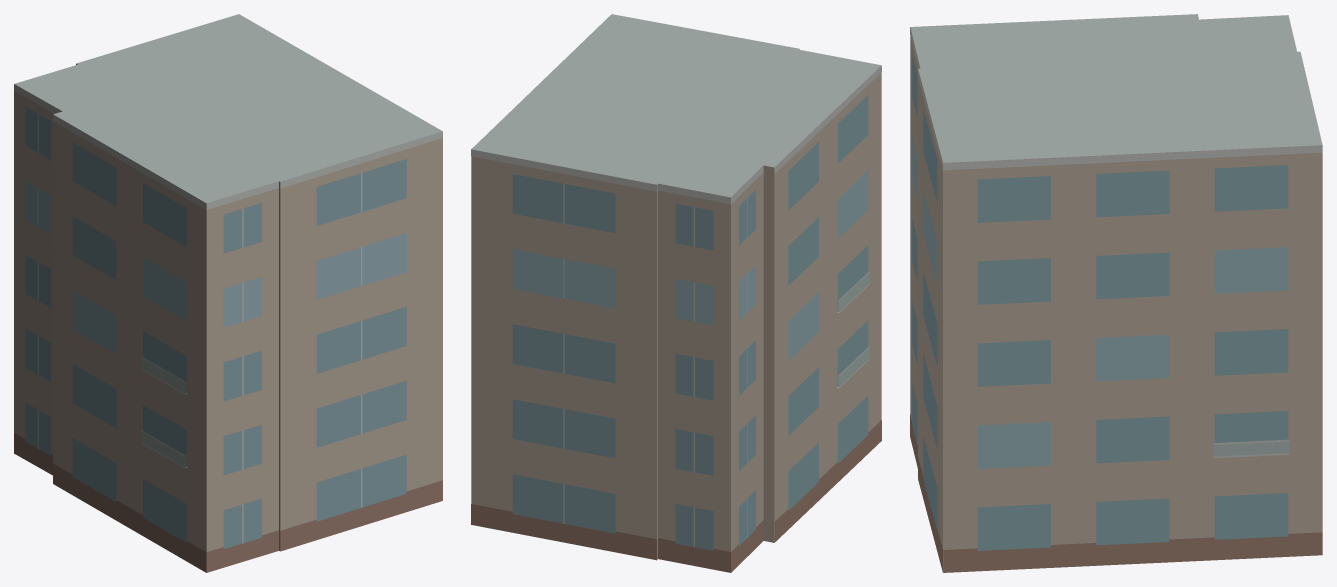
Rendered from survey-upis-32653252.glb.
3 views of the same model, side by side, from view 1: azimuth 30°, elevation 25°; view 2: azimuth 150°, elevation 25°; view 3: azimuth 270°, elevation 25° (orthographic). The views are drawn at different scales.
Parts seen in each view (by area): view 1: survey-upis-32653252.tmp; view 2: survey-upis-32653252.tmp; view 3: survey-upis-32653252.tmp.
Part boxes in pixels (x1,y1,x2,y2): survey-upis-32653252.tmp: (14, 14, 442, 572); survey-upis-32653252.tmp: (471, 14, 881, 572); survey-upis-32653252.tmp: (910, 14, 1322, 572).
Bounding box in the file's own units: 10.39 × 13.33 × 12.16.
